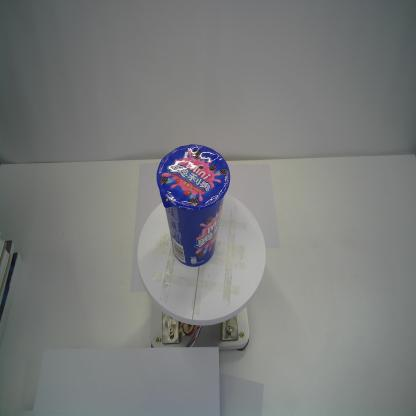Dessert: (156, 144, 231, 267)
